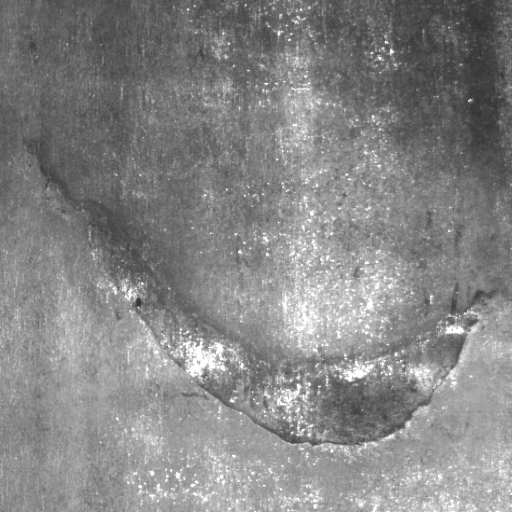qiaopi: (41, 167, 483, 449)
